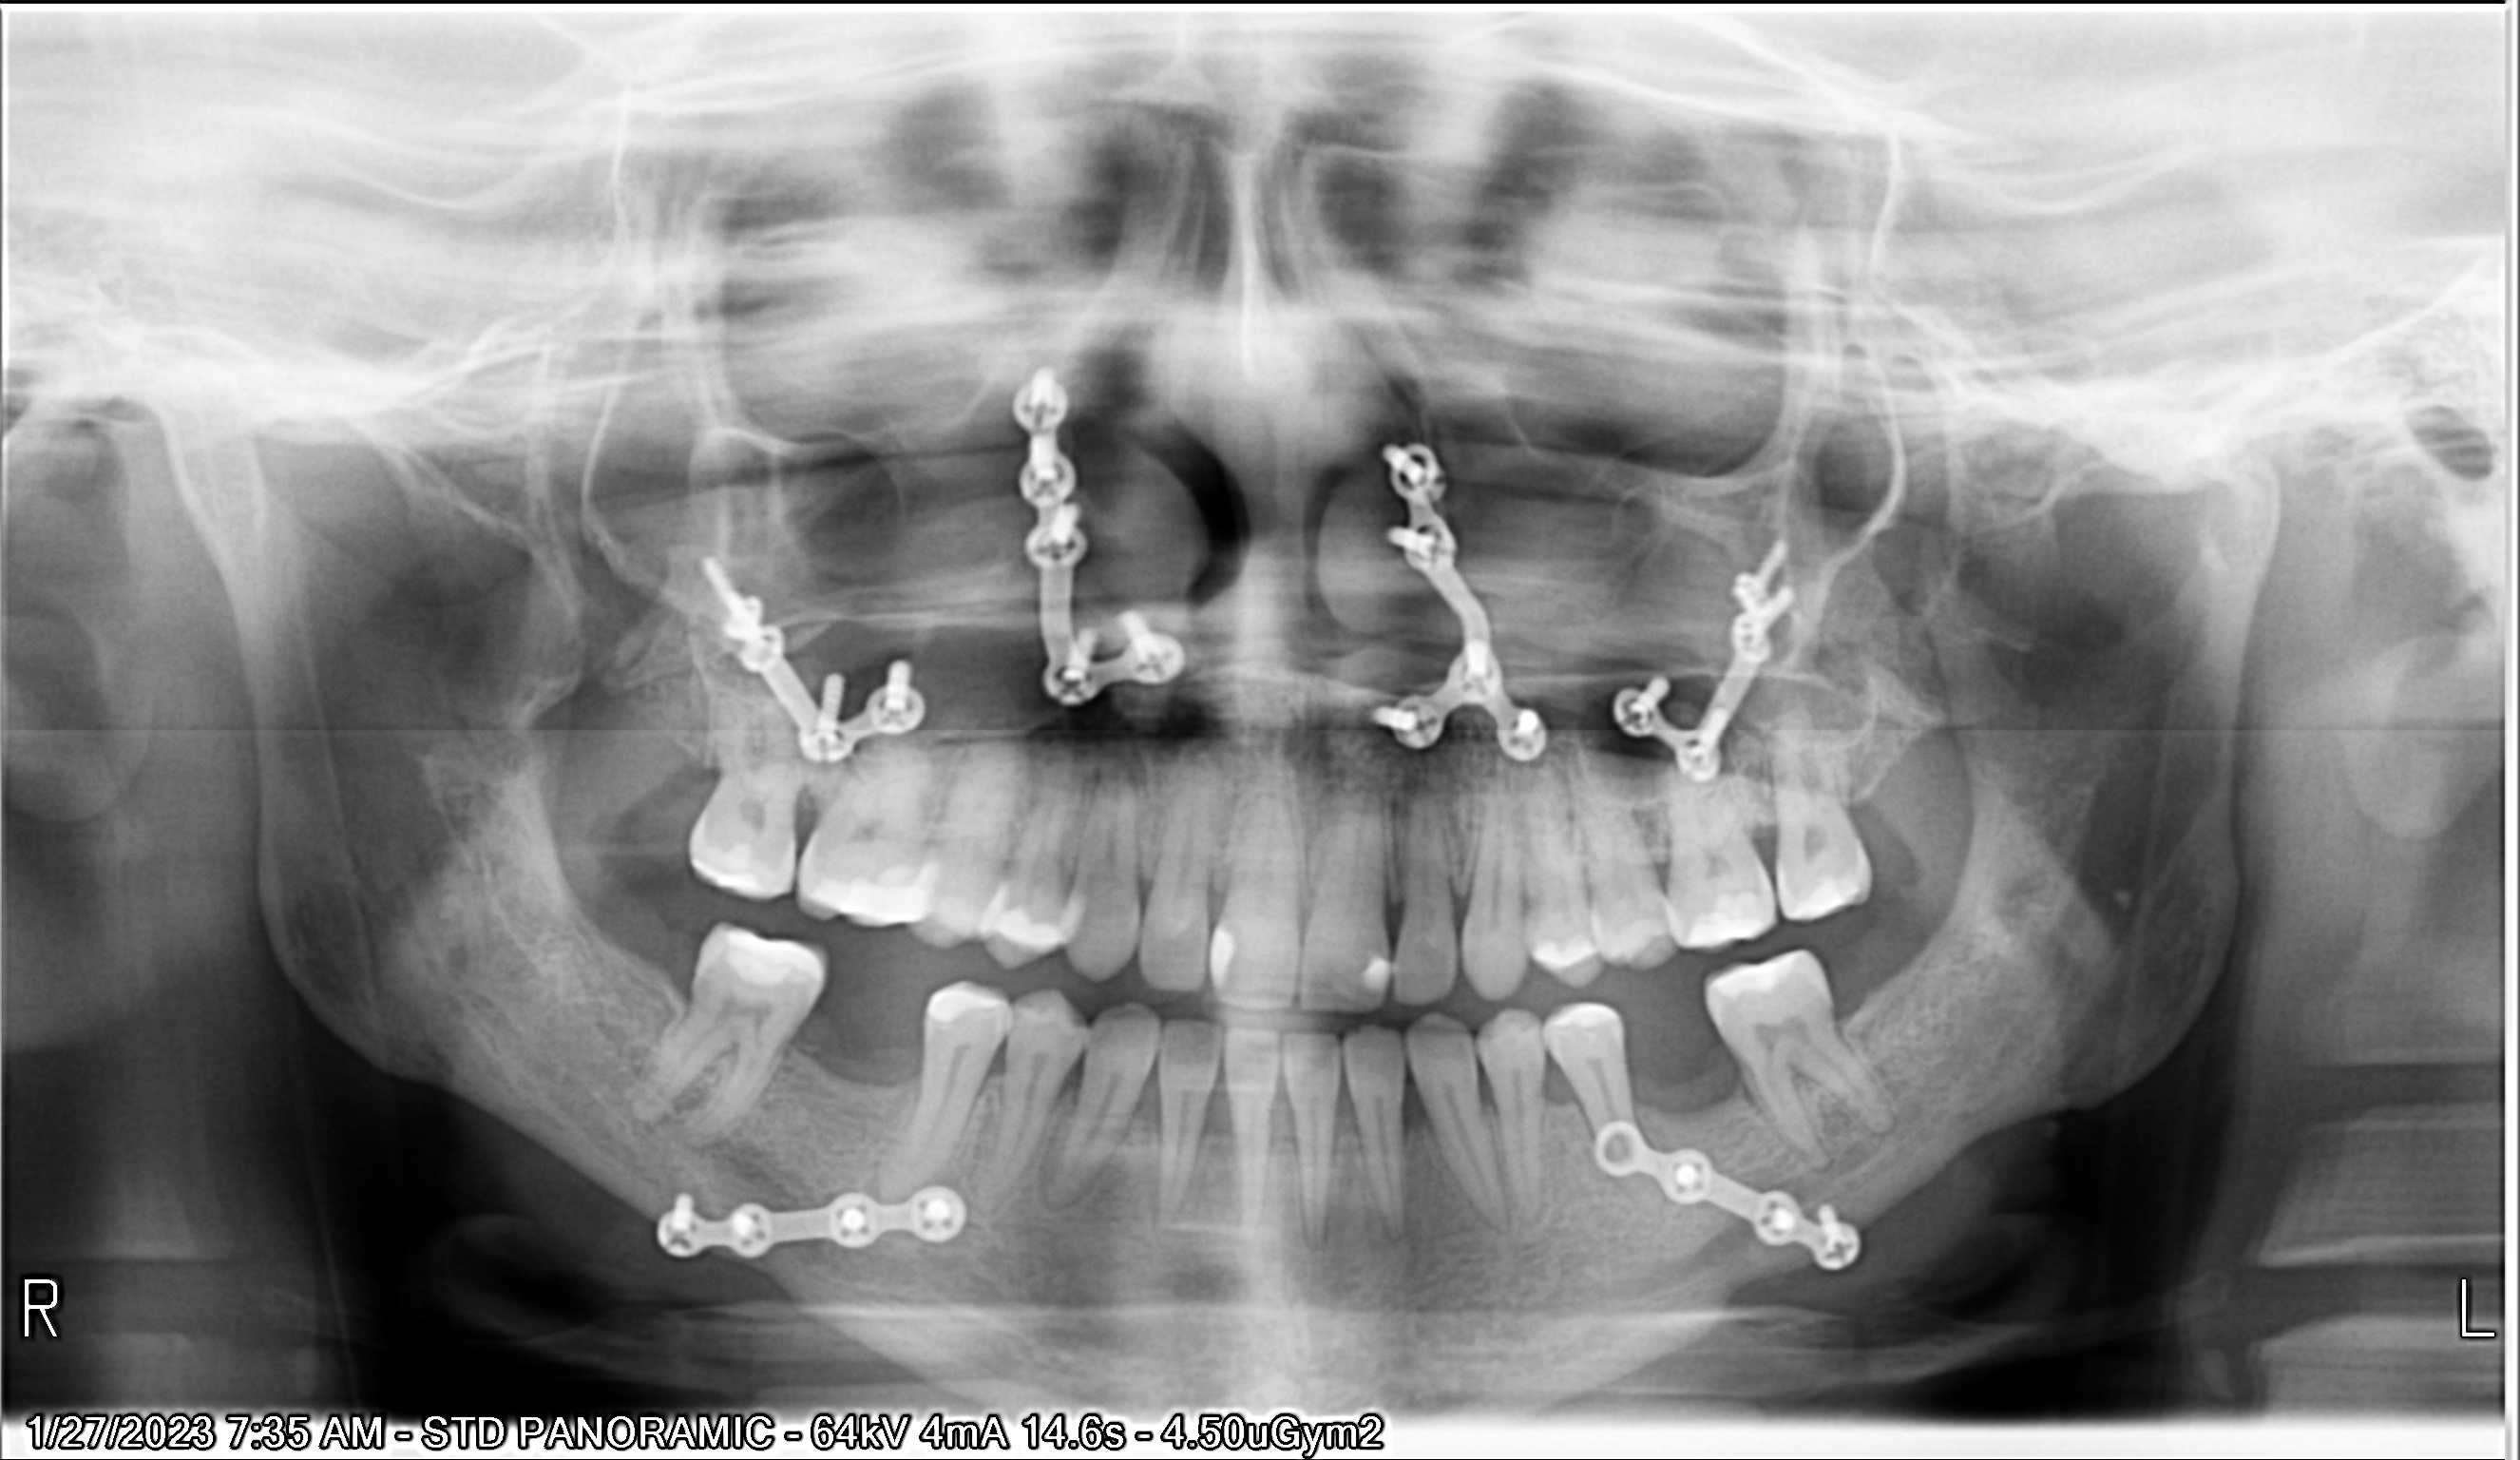OBT: (813, 831, 953, 928), (969, 885, 1084, 973), (709, 923, 839, 998), (1777, 839, 1870, 942), (1697, 947, 1815, 1020), (689, 824, 790, 906), (912, 968, 1025, 1039), (1190, 906, 1259, 1010), (1516, 919, 1615, 989), (1683, 881, 1777, 949), (1334, 933, 1410, 1003), (1547, 984, 1631, 1041), (1605, 904, 1664, 982)
SRD: (1332, 407, 1579, 791), (976, 362, 1200, 730), (1591, 494, 1844, 793), (651, 516, 950, 761), (622, 1135, 992, 1316), (1568, 1104, 1884, 1304)
